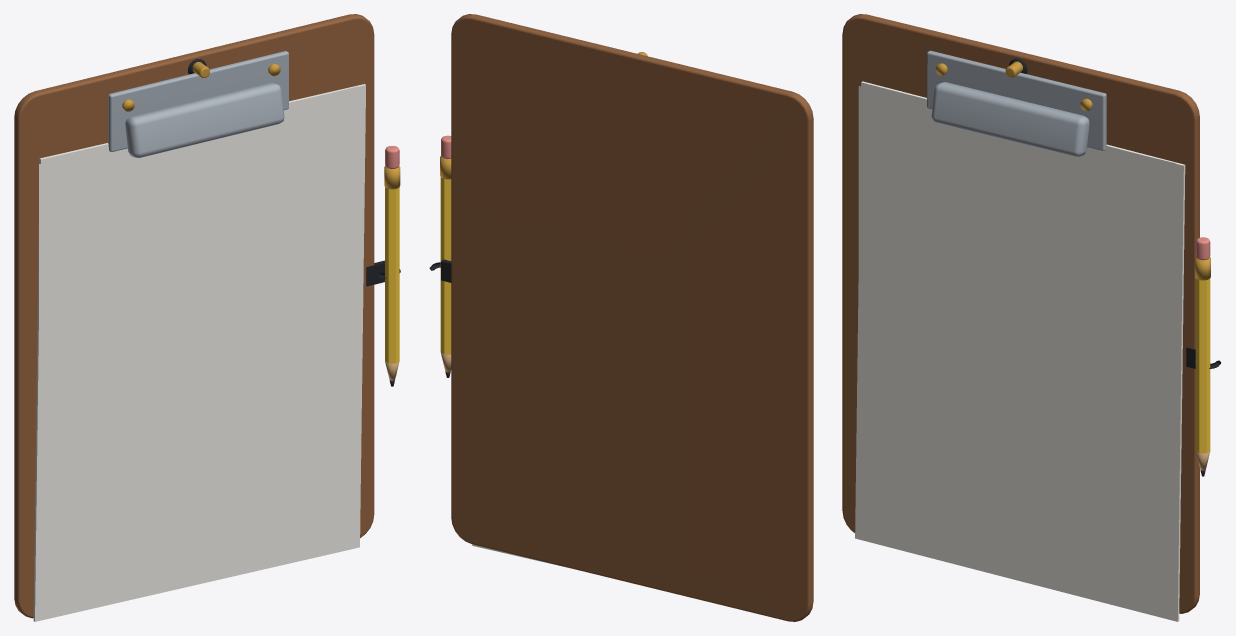
File: RmRoster.fbx
3 renders of one model, left to right at view 1: azimuth 30°, elevation 25°; view 2: azimuth 150°, elevation 25°; view 3: azimuth 330°, elevation 25°, orthographic.
Parts seen in each view (by area): view 1: RosterSheet, RmRosterBody, RosterPen; view 2: RmRosterBody, RosterPen; view 3: RosterSheet, RmRosterBody, RosterPen.
Part boxes in pixels (x1,y1,x2,y2): RosterSheet: (39,86,357,620); RmRosterBody: (14,14,400,621); RosterPen: (384,146,400,386); RmRosterBody: (429,14,813,621); RosterPen: (440,135,451,377); RosterSheet: (858,86,1175,615); RmRosterBody: (842,14,1220,621); RosterPen: (1195,237,1210,476).
Bounding box in the file's own units: 0.2508 × 0.3335 × 0.0225.
